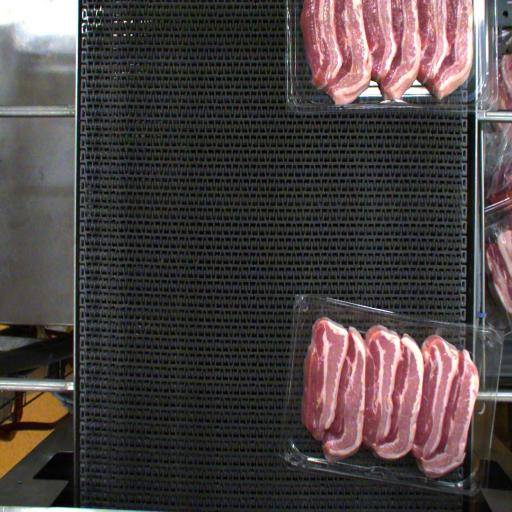packaging-error: (430, 325, 445, 341), (319, 300, 328, 318)
